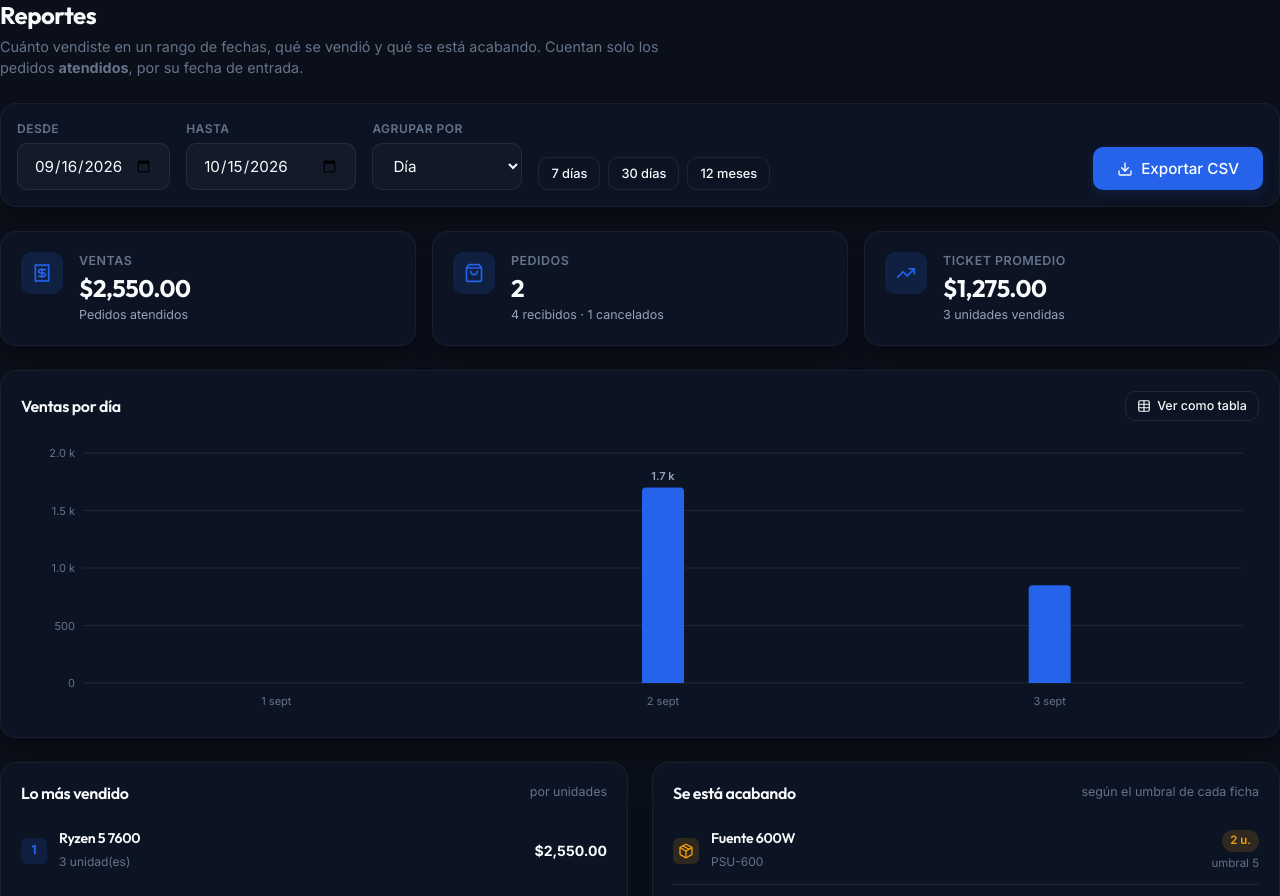
ReportsPage (MOD-9) › la serie se puede leer como tabla, no solo como gráfica
Expected: the text "Ventas" is shown, [79,253,132,268]
Click the button "Ver como tabla". click: x=1192, y=406
box: [1125,391,1259,421]
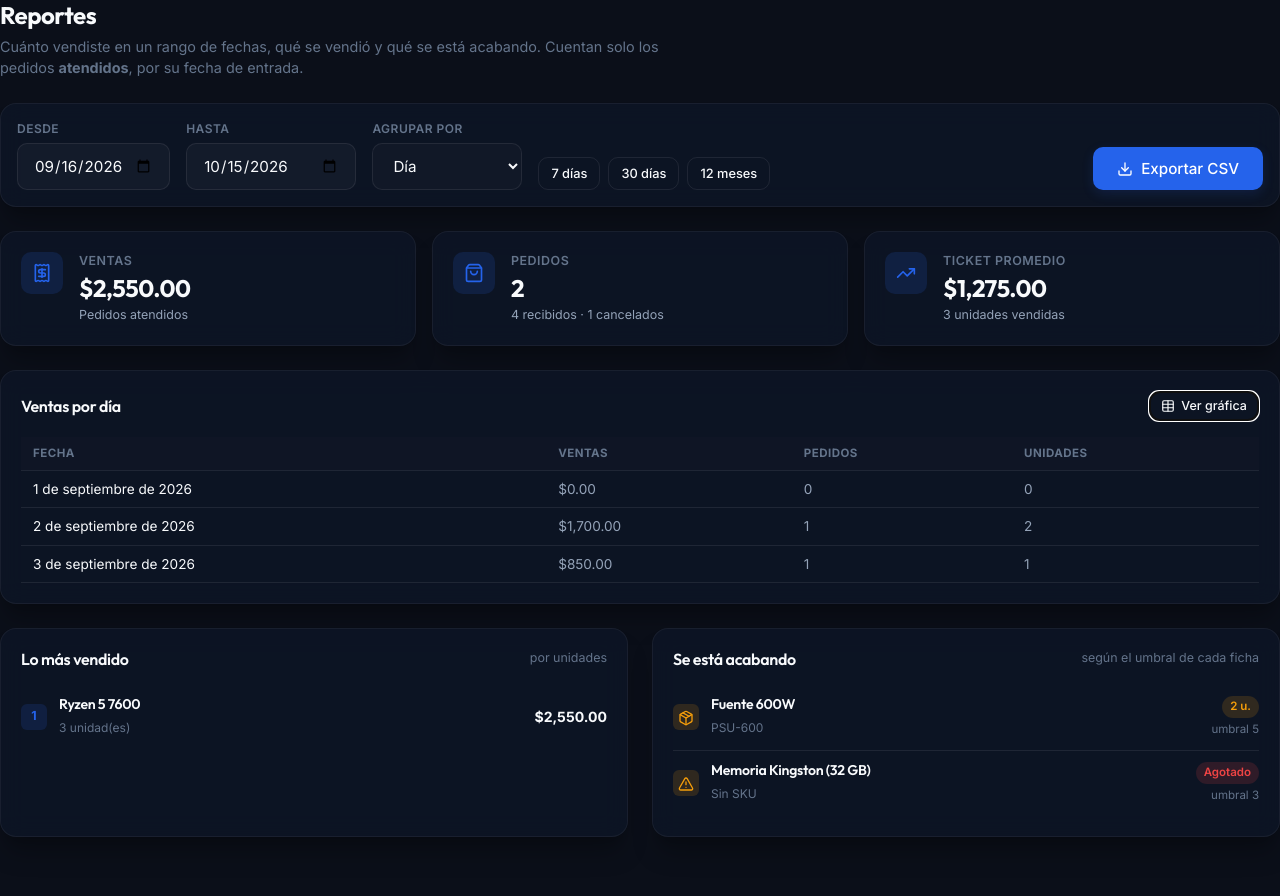
Expected: the text "$1,700.00" is shown, [546,508,792,545]
Expected: the text "$850.00" is shown, [546,545,792,583]
